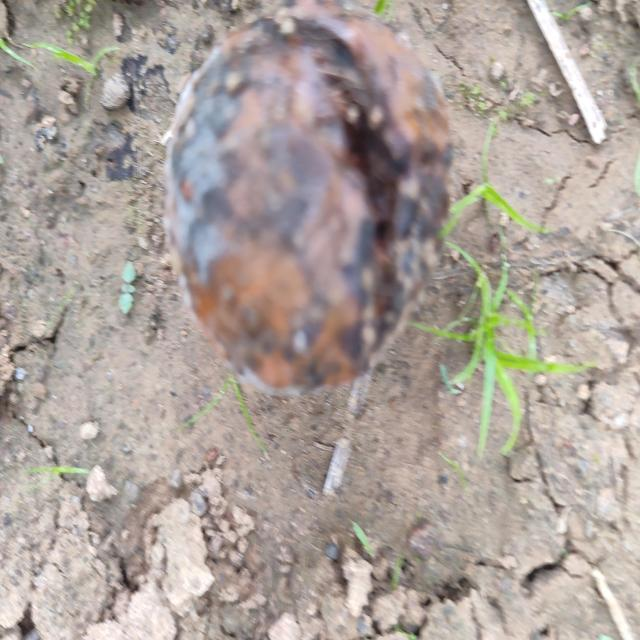damaged: (162, 7, 453, 398)
